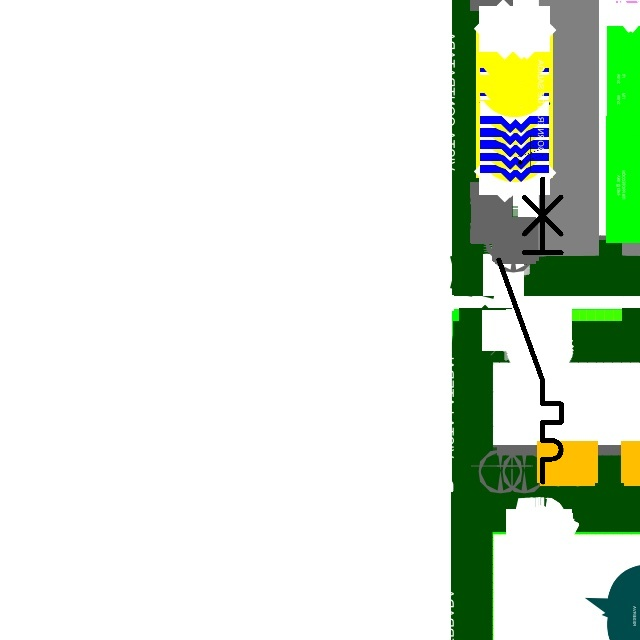interruptor_termomagnetico: (491, 171, 569, 490)
